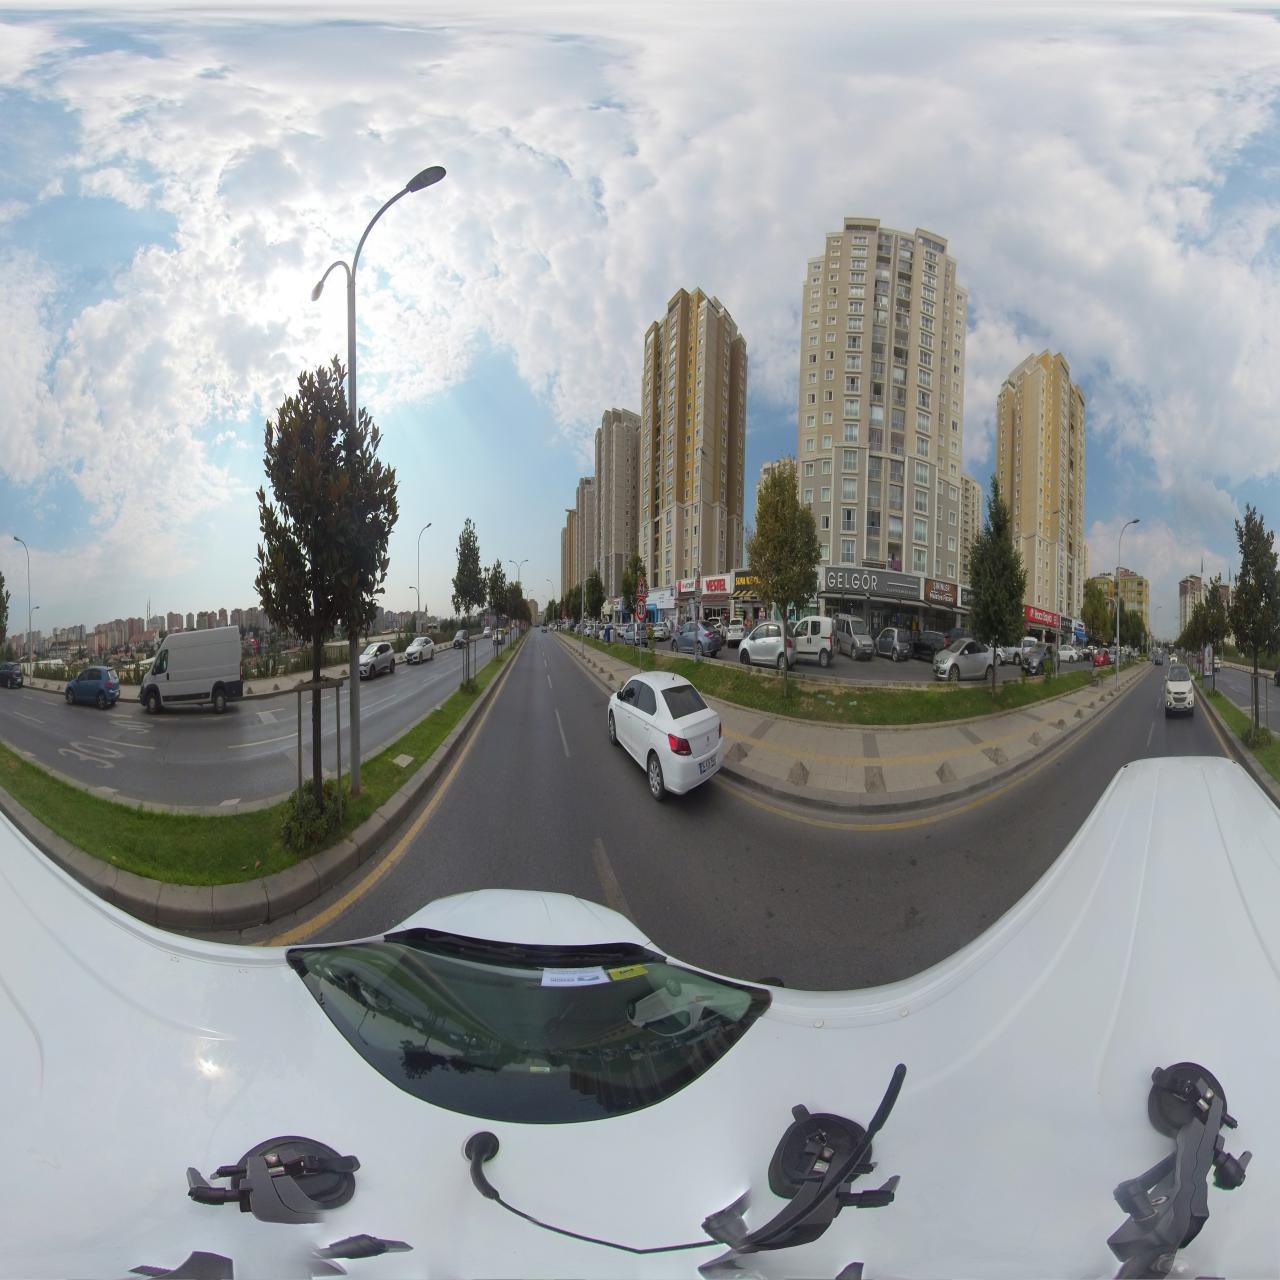SignStore: (826, 568, 884, 593), (928, 580, 955, 605), (1028, 606, 1053, 626), (704, 576, 728, 594), (735, 572, 751, 590), (679, 579, 695, 591), (1062, 618, 1071, 629), (1075, 621, 1084, 632), (613, 599, 620, 610)
